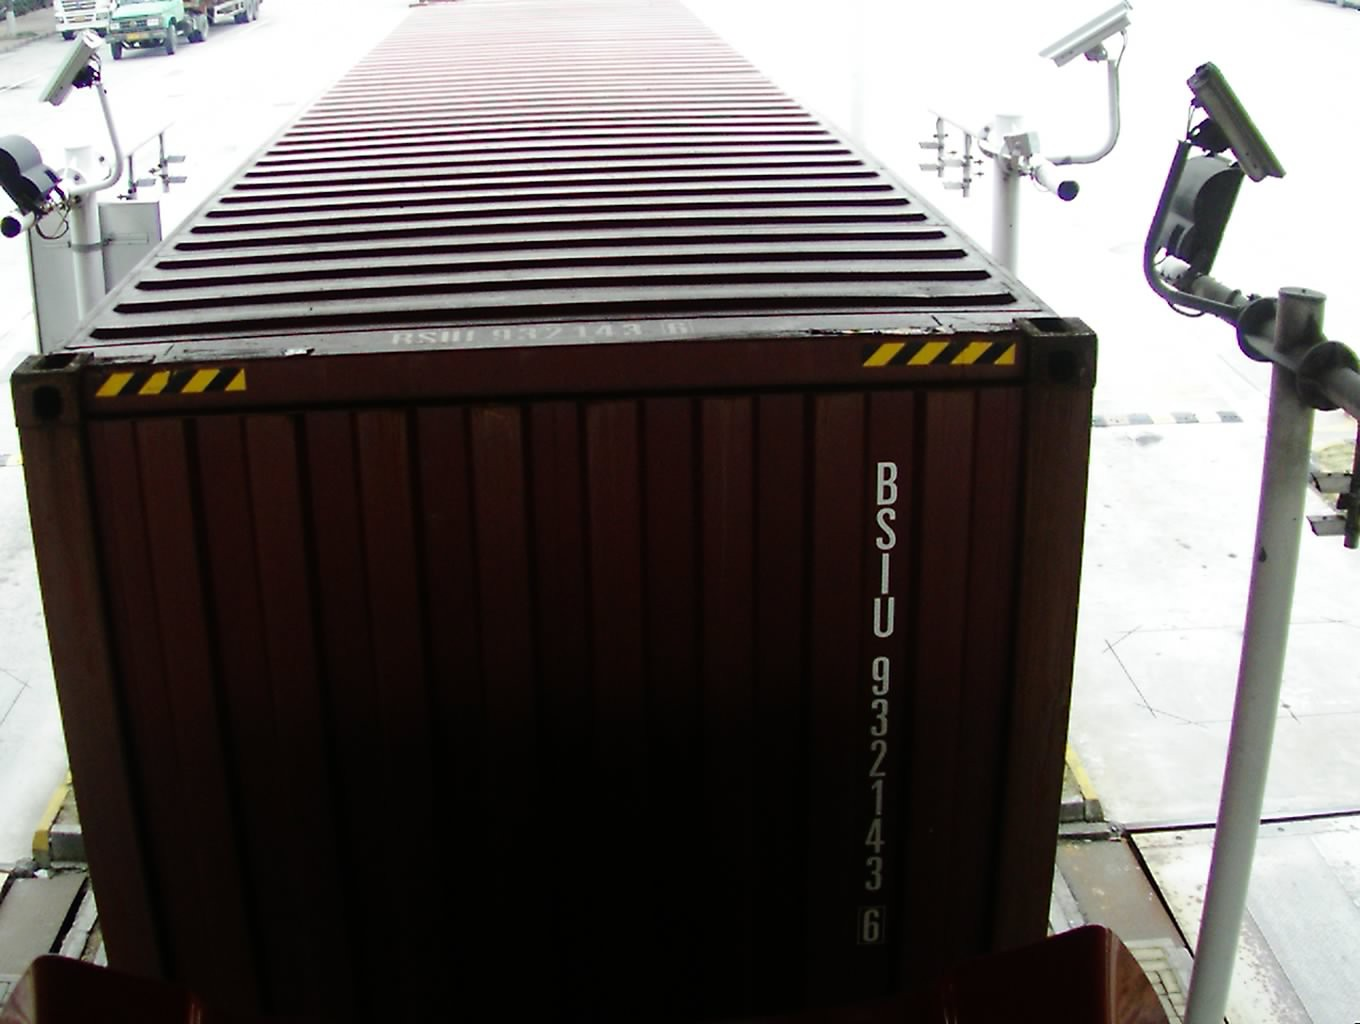words: (856, 455, 903, 950)
